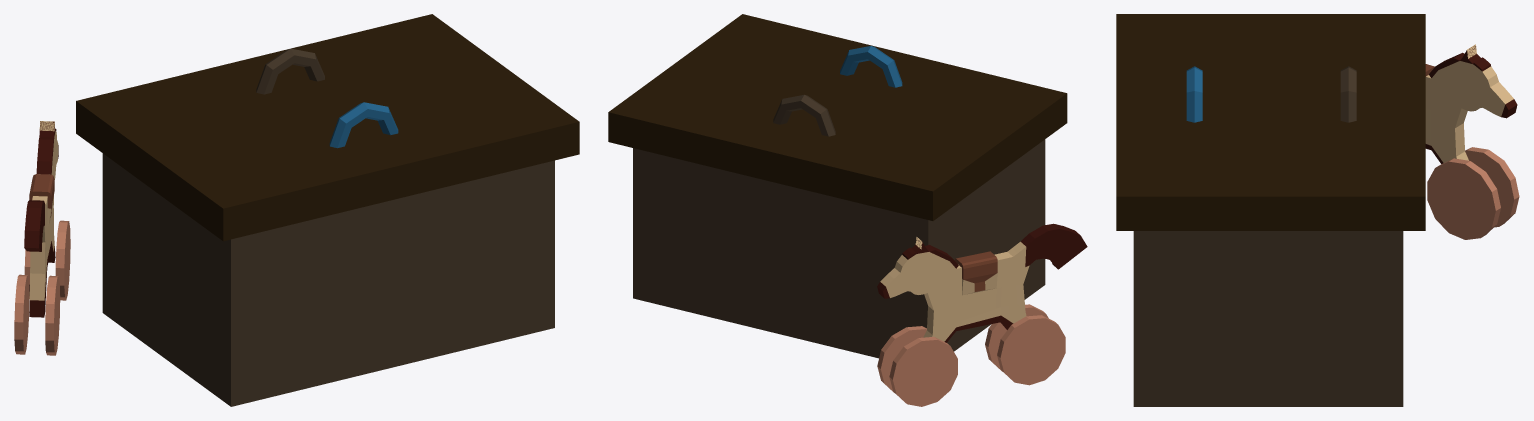
The model's file is Malle.fbx.
3 renders of one model, left to right at view 1: azimuth 30°, elevation 25°; view 2: azimuth 150°, elevation 25°; view 3: azimuth 270°, elevation 25°, orthographic. The views are drawn at different scales.
Parts seen in each view (by area): view 1: Cube.008, Cube.007; view 2: Cube.008, Cube.007; view 3: Cube.008, Cube.007.
Part boxes in pixels (x1=…): Cube.008: x1=76, y1=14, x2=579, y2=406; Cube.007: x1=14, y1=121, x2=70, y2=355; Cube.008: x1=608, y1=14, x2=1067, y2=358; Cube.007: x1=877, y1=223, x2=1087, y2=406; Cube.008: x1=1116, y1=14, x2=1425, y2=406; Cube.007: x1=1425, y1=44, x2=1519, y2=239.
Bounding box in the file's own units: 279 × 140 × 198.
